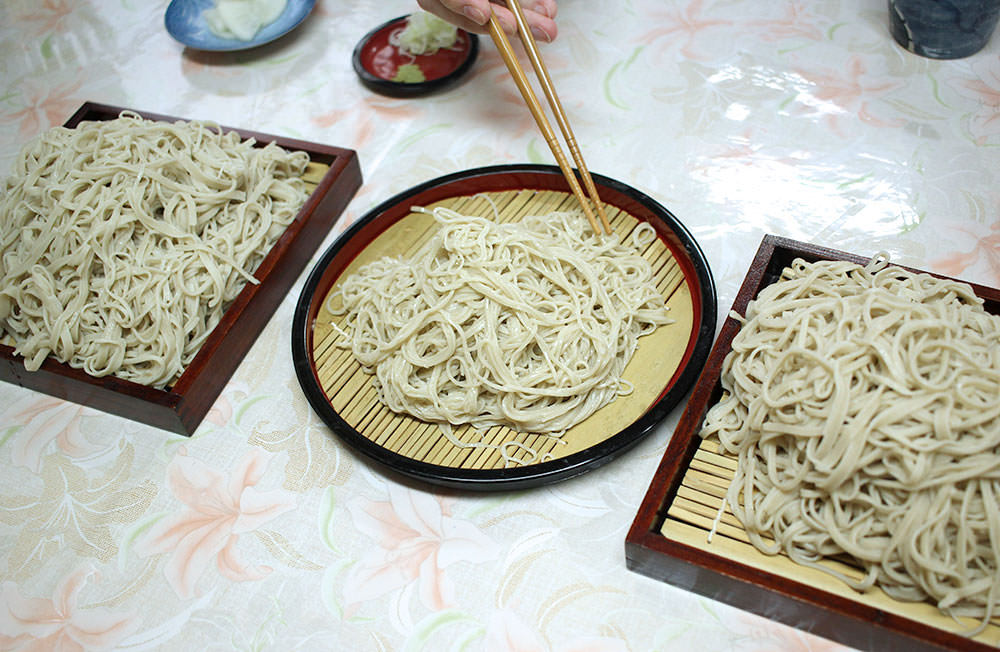Soba: (732, 246, 995, 626), (8, 111, 312, 398), (351, 201, 664, 439)
